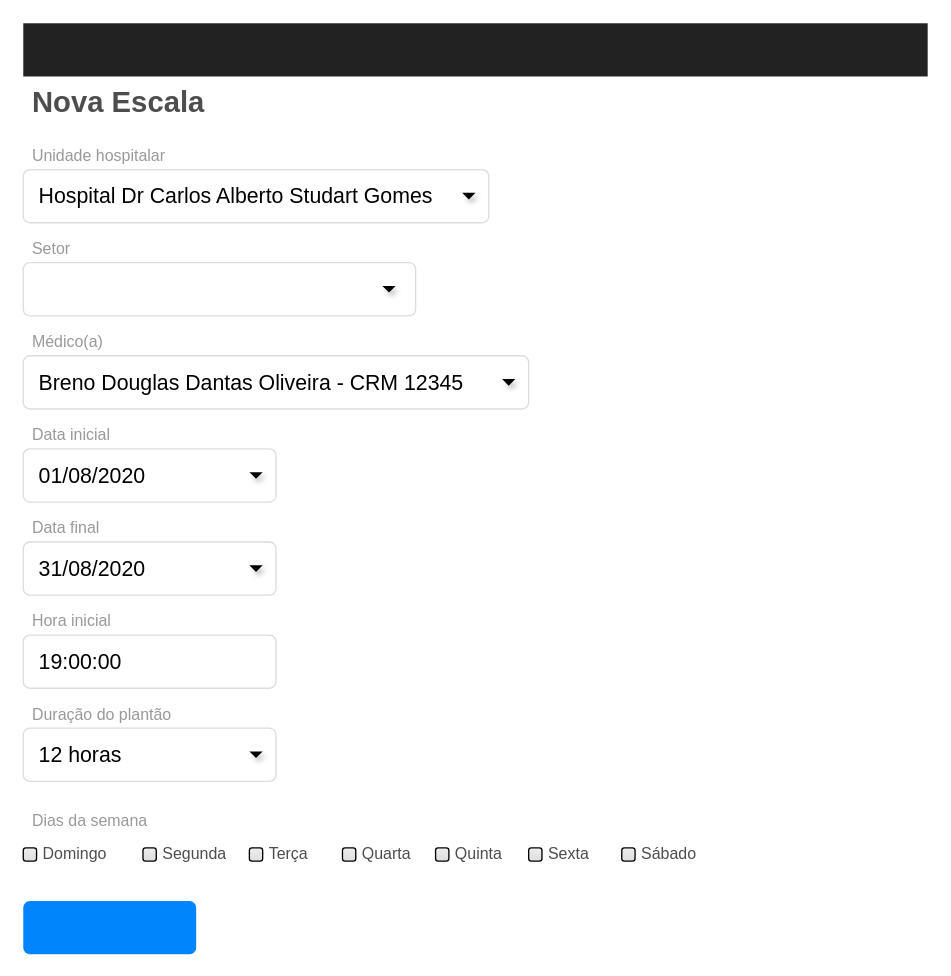
Image size: 951x976. Some labels were removed from this diagram. The centre of each missing label's shape, as x and y in pixels:
"Cemerge" belongs at [475,49].
"Chefia de Equipe Emergência" belongs at [219,288].
"Gerar Escala" belongs at [109,927].
